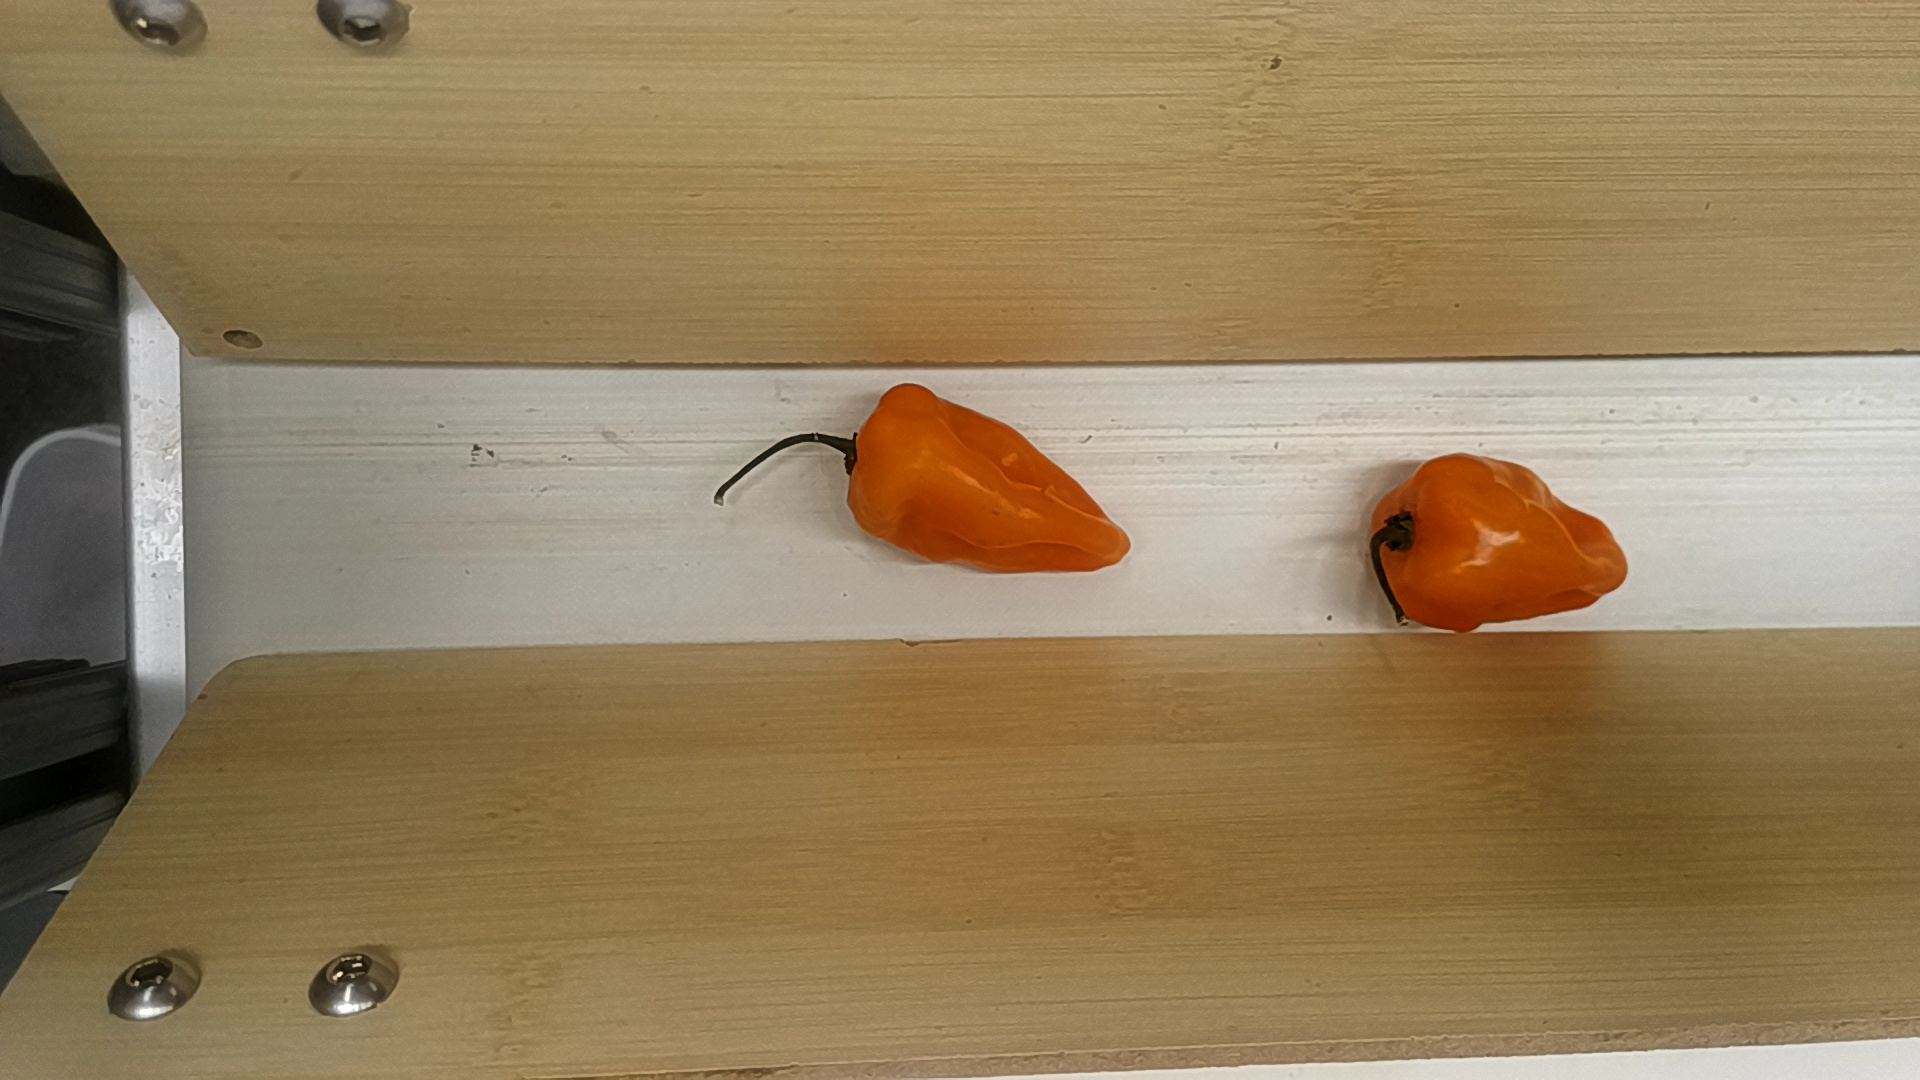Cut Point: (1385, 448, 1441, 626), (837, 380, 887, 546)
